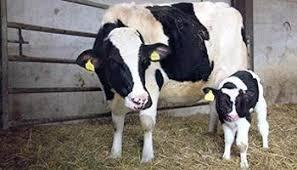cow: (76, 0, 247, 163), (202, 70, 269, 170)
